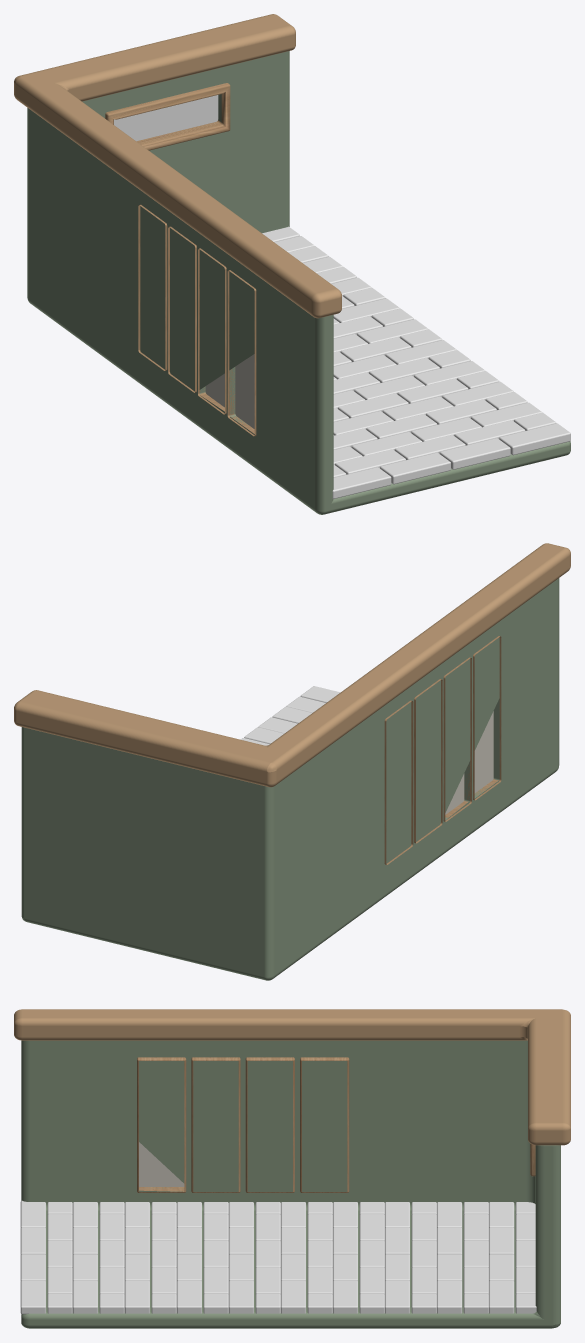
Rendered from Invernadero.fbx.
The picture shows the model from 3 angles, top to bottom: view 1: azimuth 30°, elevation 25°; view 2: azimuth 150°, elevation 25°; view 3: azimuth 270°, elevation 25°; orthographic projection. The views are drawn at different scales.
Parts seen in each view (by area): view 1: Paredes, Plane, Paredes.003, Ventanas, Ventana2, Vidrio2, Ventanas.001; view 2: Paredes, Paredes.003, Ventanas, Plane, Ventanas.001; view 3: Paredes, Plane, Paredes.003, Ventanas, Ventanas.001.
Part boxes in pixels (x1,y1,x2,y2): Paredes: [27, 51, 570, 514]; Plane: [262, 226, 570, 498]; Paredes.003: [14, 14, 341, 318]; Ventanas: [138, 204, 256, 436]; Ventana2: [105, 83, 230, 150]; Vidrio2: [114, 95, 218, 141]; Ventanas.001: [205, 354, 254, 428]; Paredes: [21, 578, 559, 980]; Paredes.003: [14, 543, 570, 787]; Ventanas: [384, 636, 501, 864]; Plane: [241, 686, 340, 745]; Ventanas.001: [445, 711, 493, 814]; Paredes: [21, 1040, 560, 1328]; Plane: [20, 1200, 536, 1314]; Paredes.003: [14, 1009, 570, 1145]; Ventanas: [137, 1057, 349, 1192]; Ventanas.001: [139, 1142, 184, 1186].
Bounding box in the file's own units: 402 × 328 × 802.
5 materials, 1 textured.
